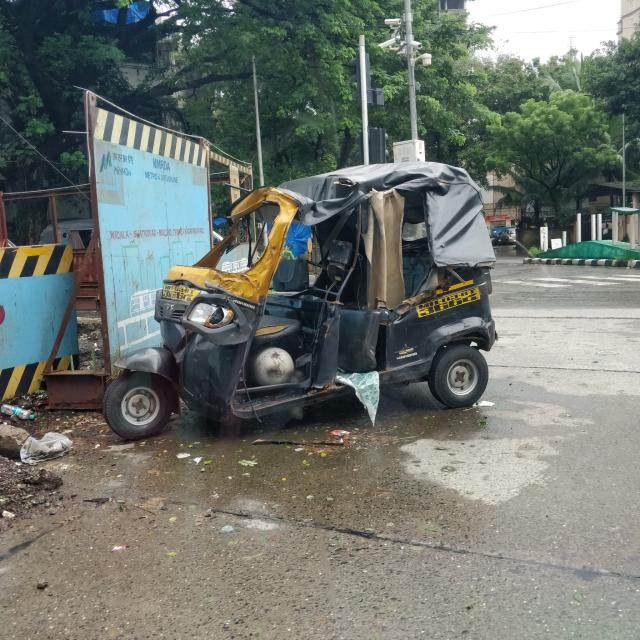accident: (104, 162, 496, 439)
